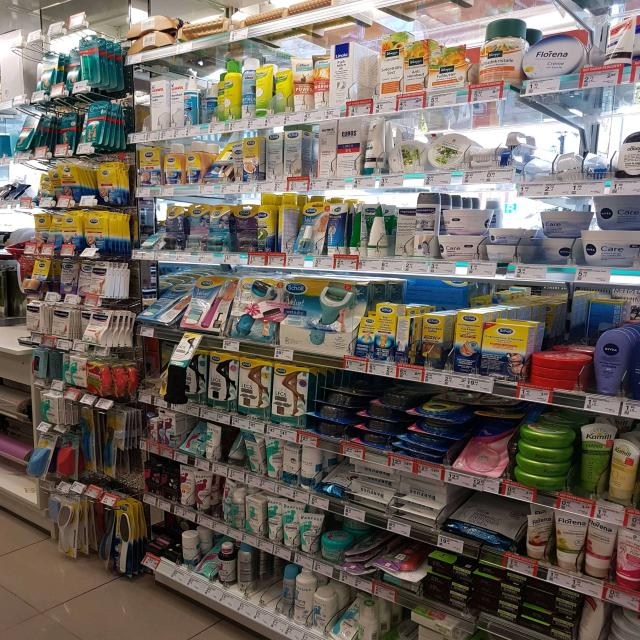empty: (255, 550, 286, 614)
